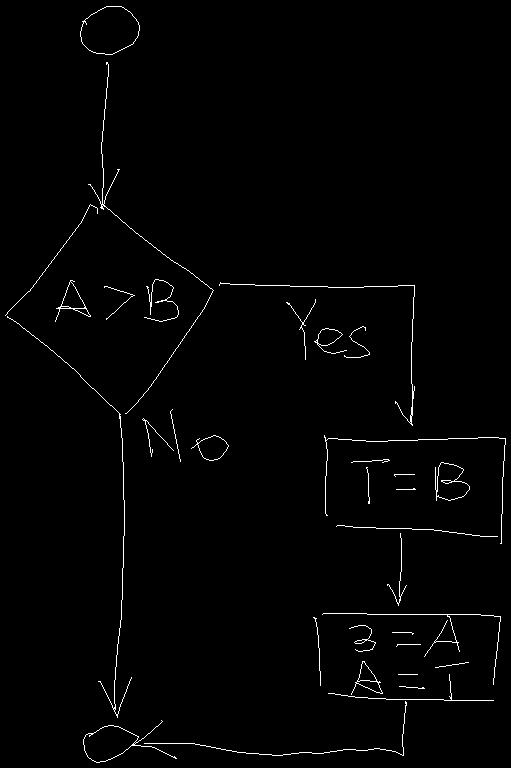arrow: (219, 282, 414, 425), (132, 701, 406, 758), (98, 413, 131, 717), (88, 62, 119, 209), (387, 533, 406, 605)
connection: (80, 6, 139, 54), (83, 725, 138, 762)
decision: (5, 204, 213, 414)
process: (324, 435, 505, 543), (313, 613, 500, 700)
text: (349, 615, 468, 699), (351, 459, 469, 503), (55, 279, 178, 321), (286, 299, 369, 359), (142, 409, 228, 461)
